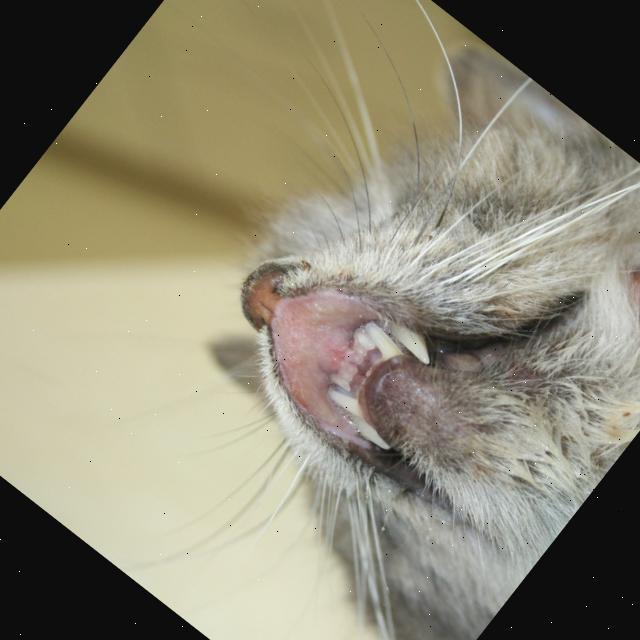cat-ulcer: (260, 281, 376, 401)
